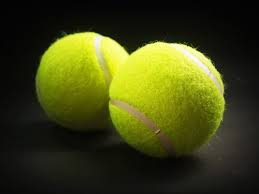tennis ball: (108, 38, 230, 166), (31, 29, 115, 148)
